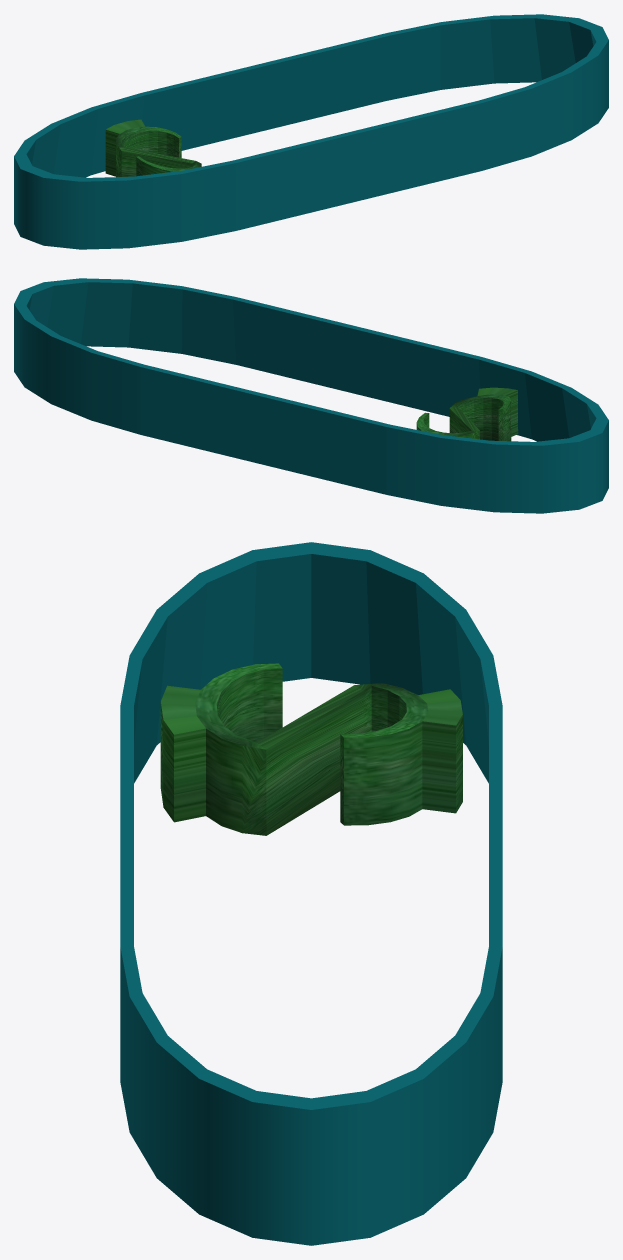
File: UI Money icon.fbx
3 renders of one model, top to bottom at view 1: azimuth 30°, elevation 25°; view 2: azimuth 150°, elevation 25°; view 3: azimuth 270°, elevation 25°, orthographic. The views are drawn at different scales.
Parts seen in each view (by area): view 1: pCylinder6, Money_icon; view 2: pCylinder6, Money_icon; view 3: pCylinder6, Money_icon.
Part boxes in pixels (bbox=[...]): pCylinder6: bbox=[14, 14, 608, 249]; Money_icon: bbox=[105, 119, 201, 176]; pCylinder6: bbox=[14, 278, 608, 513]; Money_icon: bbox=[416, 387, 518, 441]; pCylinder6: bbox=[120, 542, 502, 1245]; Money_icon: bbox=[160, 663, 462, 835].
Bounding box in the file's own units: 27.71 × 3.09 × 7.89.
Materials: 2 (1 with a texture image).
